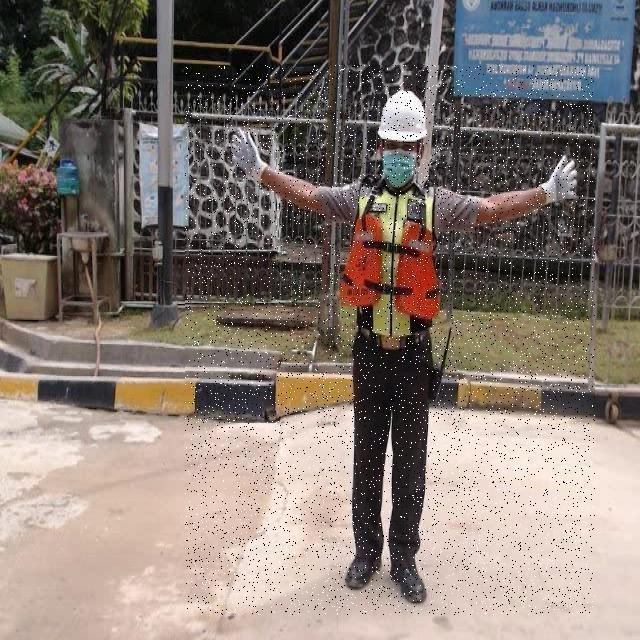helmet: (367, 87, 429, 149)
safety_vest: (337, 176, 443, 336)
